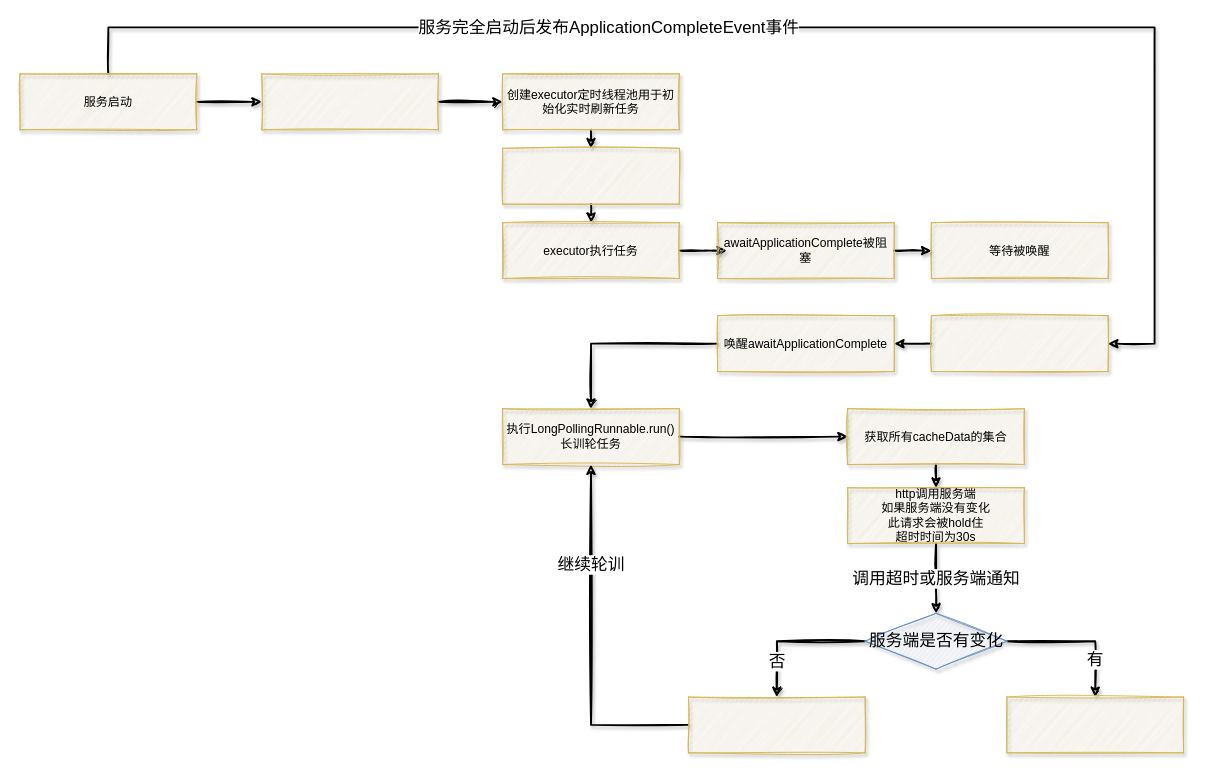
Some shapes in this 1206 by 776 pixel diagram are drawn without their labels. Each missing label, with the centre of its shape:
ClientWorker初始化: point 350,102
创建executorService定时线程池用于实现长训轮: point 591,177
接收ApplicationCompleteEvent事件: point 1020,344
获取服务端返回的发生变化changedTpIds集合(threadPoolId+项目+租户): point 1095,725
遍历cacheData集合将初始化设置false: point 777,725
